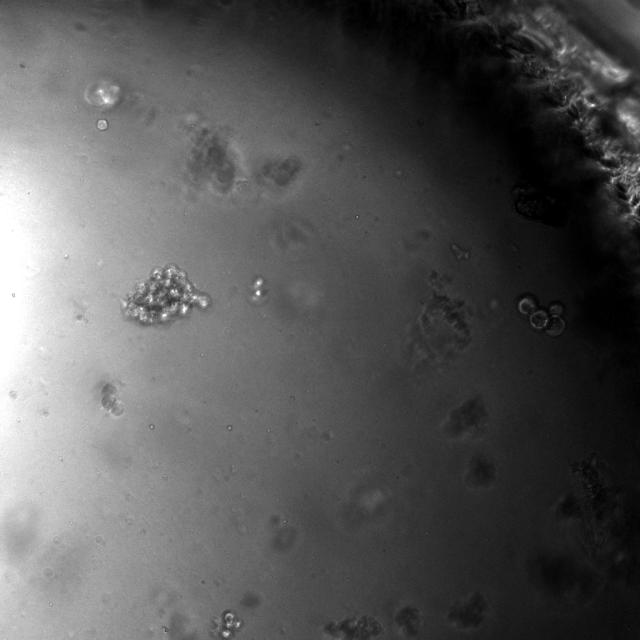organoid: (122, 264, 211, 324), (518, 293, 566, 337), (325, 616, 381, 639), (209, 609, 242, 639), (101, 383, 124, 415), (96, 118, 108, 130)
